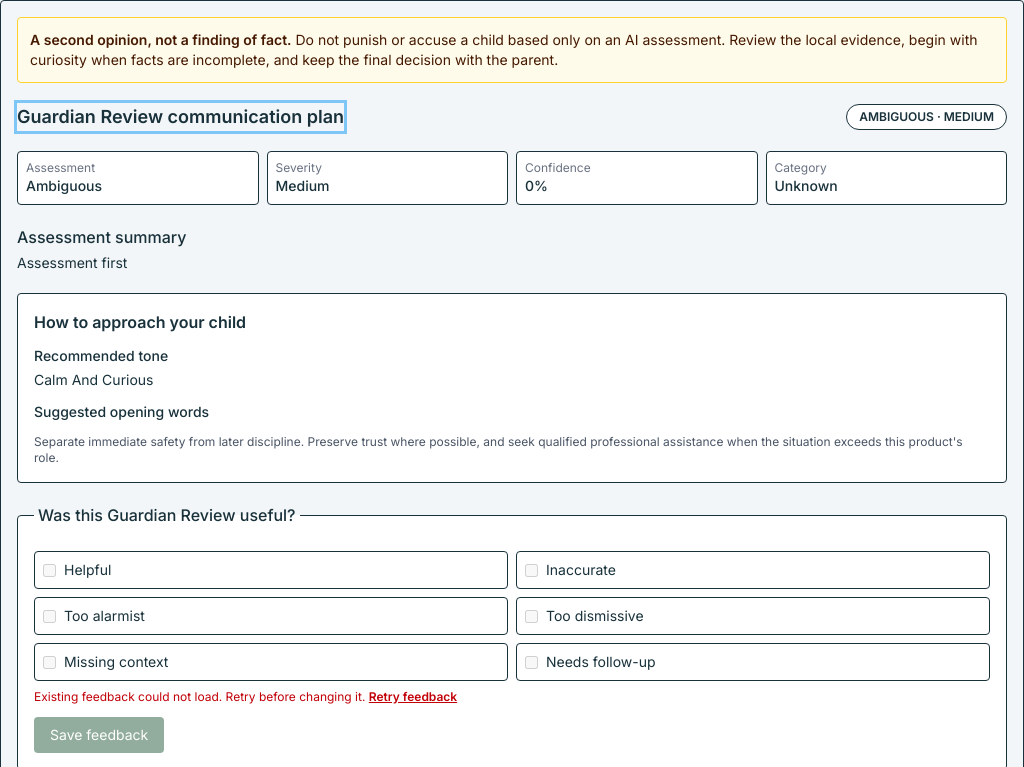
Test: review-specific feedback › preserves unknown saved feedback until loading succeeds instead of silently overwriting it
Expected: the button "Save feedback" is disabled, [34, 717, 164, 753]
Expected: the checkbox labelled "Helpful" is disabled, [43, 564, 56, 576]
What coordinates should you click on to do the following:
click the button "Retry feedback"
I would click on:
 (413, 697)
Its box is [369, 689, 457, 705].
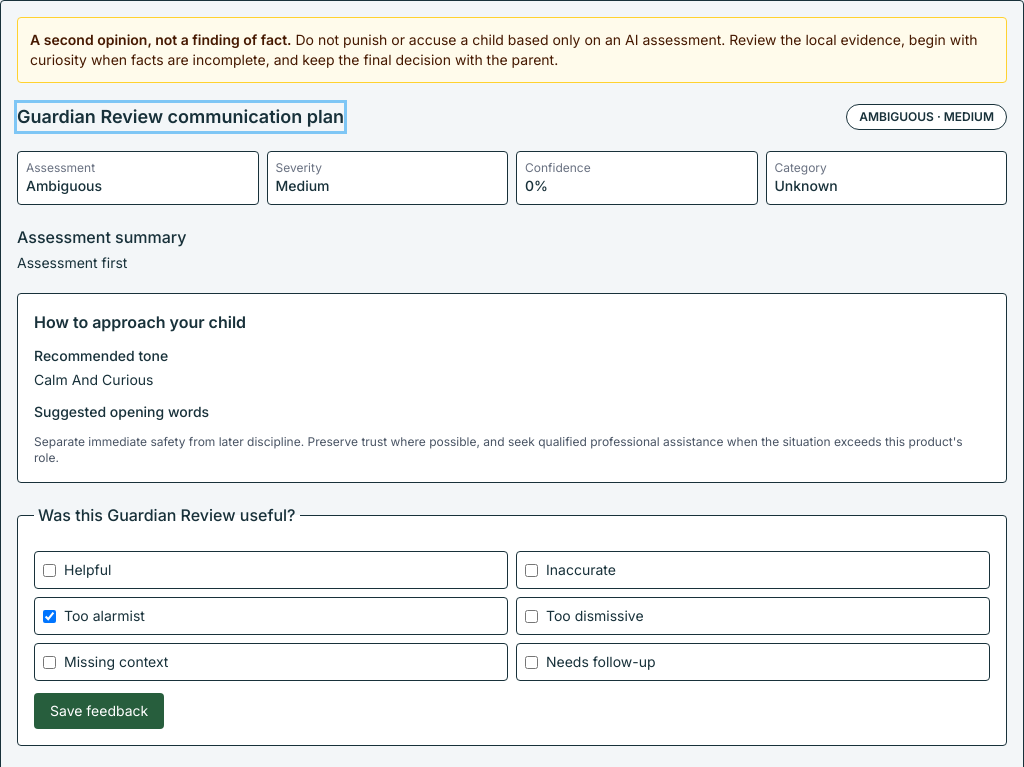
Now the checkbox labelled "Too alarmist" is checked, box [43, 610, 56, 622]
Now the message "Existing feedback could not load. Retry before changing it. Retry feedback" is gone
